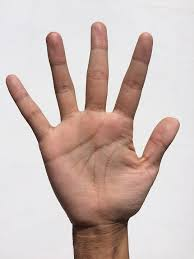palm: (4, 20, 182, 230)
